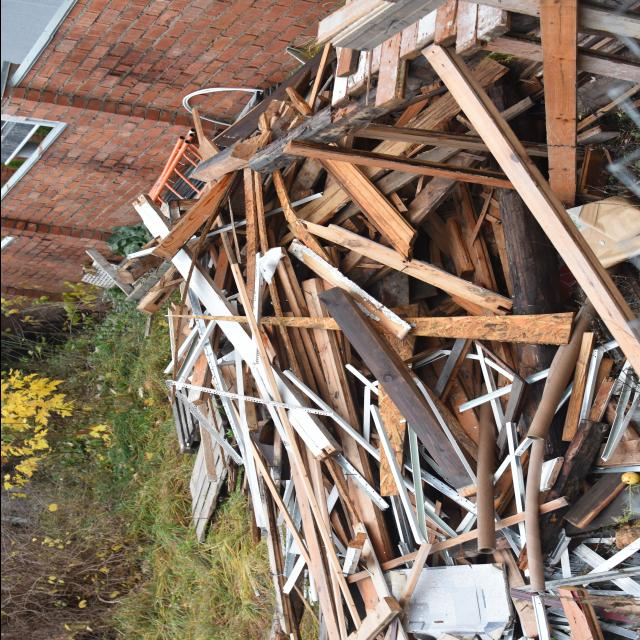entulho: (188, 32, 487, 198), (298, 279, 411, 590), (420, 36, 586, 235), (484, 172, 584, 386), (236, 361, 340, 555), (318, 223, 500, 314), (89, 206, 255, 296), (458, 336, 624, 412), (167, 312, 578, 342), (542, 528, 640, 639), (381, 568, 515, 638), (550, 332, 628, 448), (133, 128, 221, 222), (190, 387, 238, 553), (328, 154, 418, 242), (553, 182, 640, 272), (557, 462, 640, 548), (82, 248, 168, 324), (334, 1, 458, 53), (474, 358, 500, 563), (169, 362, 213, 459), (178, 84, 262, 130), (376, 422, 411, 530), (604, 364, 636, 448), (247, 458, 270, 540), (539, 456, 563, 490), (584, 464, 640, 474)
